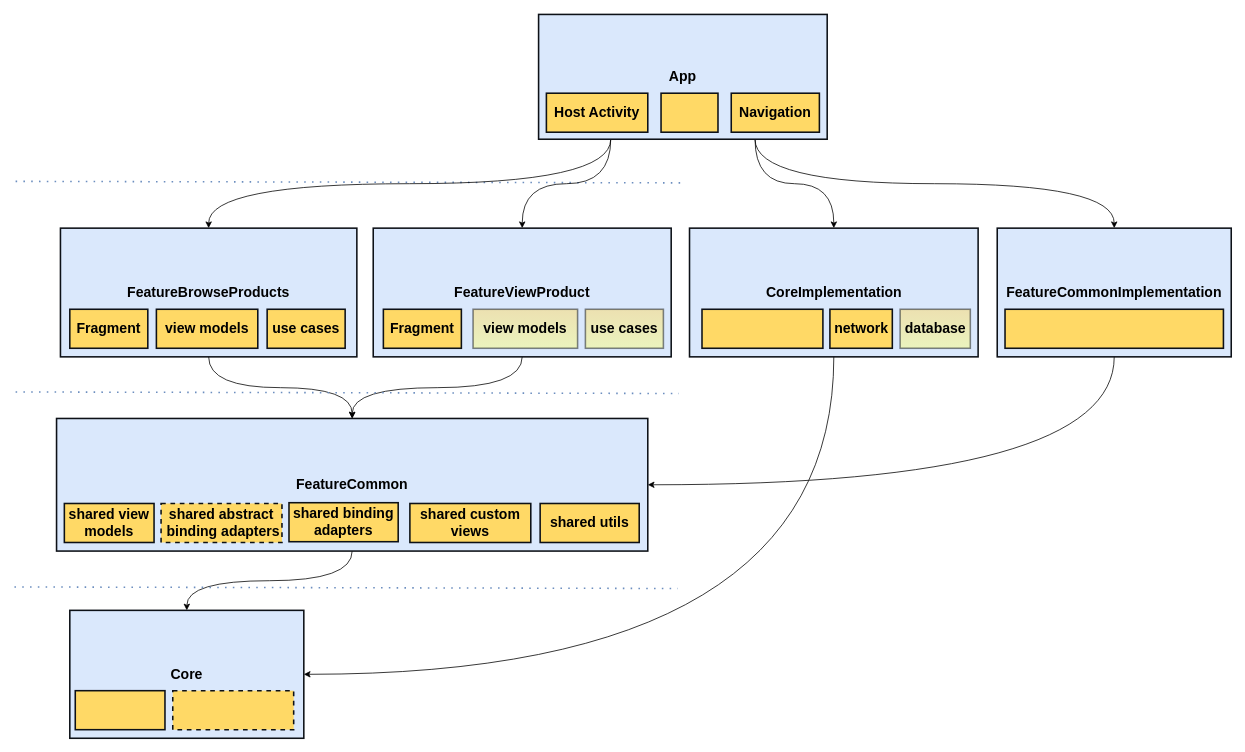
The diagram is 1245 pixels wide and 752 high, and some of its shapes have lost their labels. The shapes that lost their labels are listed below. From the top down, each one's centre as x and y in pixels, then its label:
At pixel 689 112: "DI".
At pixel 762 328: "repository implementations".
At pixel 1114 328: "shared binding adapter implementations".
At pixel 119 710: "entities".
At pixel 233 710: "abstract repositories".
